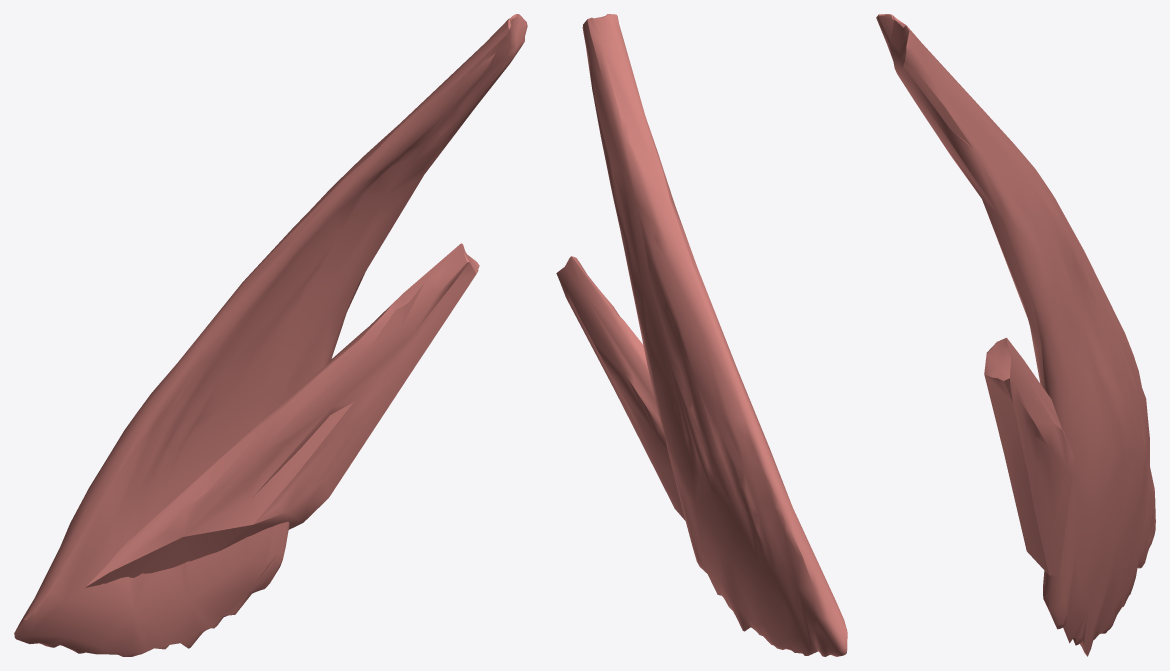
Rendered from fma82374_mm4005m.glb.
3 renders of one model, left to right at view 1: azimuth 30°, elevation 25°; view 2: azimuth 150°, elevation 25°; view 3: azimuth 270°, elevation 25°, orthographic. The views are drawn at different scales.
Parts seen in each view (by area): view 1: FMA82374_MM4005M; view 2: FMA82374_MM4005M; view 3: FMA82374_MM4005M.
Part boxes in pixels (<box>): FMA82374_MM4005M: <box>14,14,527,656</box>; FMA82374_MM4005M: <box>556,14,847,656</box>; FMA82374_MM4005M: <box>876,14,1155,656</box>.
Bounding box in the file's own units: 0.0401 × 0.058 × 0.0185.
